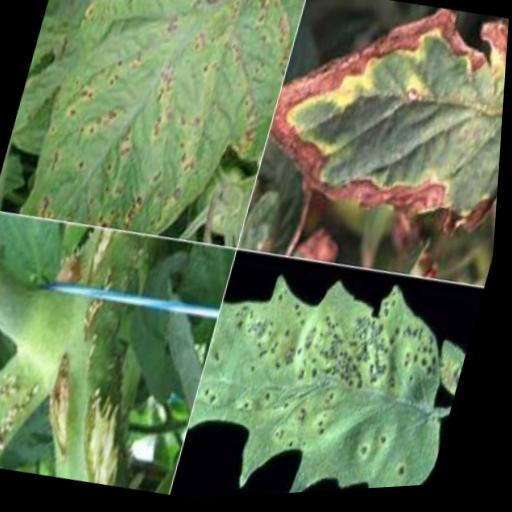Bacterial Spot: (181, 252, 488, 502), (21, 0, 308, 252), (250, 0, 512, 262)
